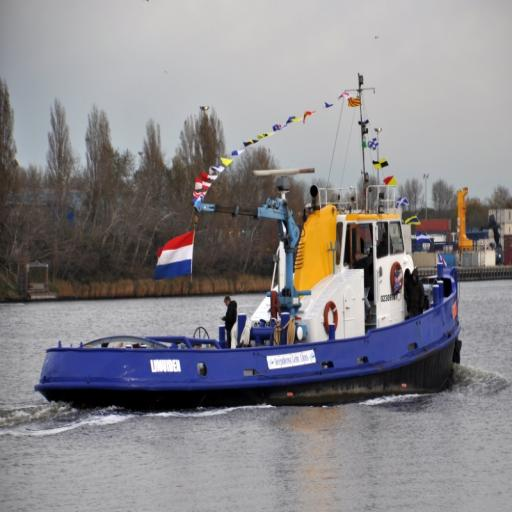tugboat: (37, 163, 467, 421)
